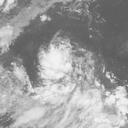cyclone: (36, 30, 88, 84)
